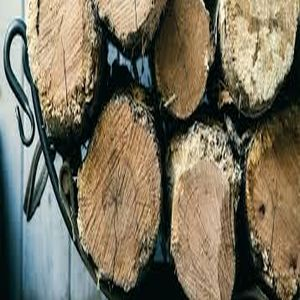log: (76, 90, 164, 291), (166, 122, 238, 300), (242, 104, 299, 300), (20, 1, 100, 130), (215, 1, 299, 122), (149, 1, 218, 122)
